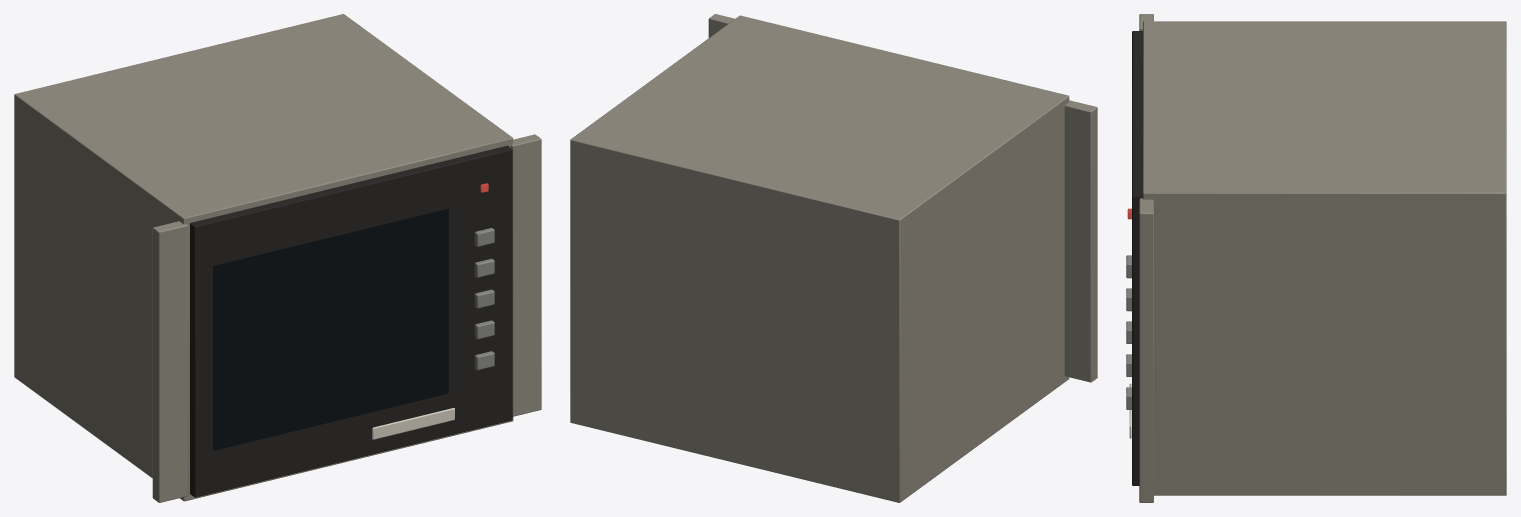
The model's file is SM_F_TV_Broadcast.gltf.
3 renders of one model, left to right at view 1: azimuth 30°, elevation 25°; view 2: azimuth 150°, elevation 25°; view 3: azimuth 270°, elevation 25°, orthographic. The views are drawn at different scales.
Parts seen in each view (by area): view 1: SM_F_TV_Broadcast_LookDev02__Body, SM_F_TV_Broadcast_LookDev02__Screen; view 2: SM_F_TV_Broadcast_LookDev02__Body; view 3: SM_F_TV_Broadcast_LookDev02__Body.
Part boxes in pixels (x1,y1,x2,y2): SM_F_TV_Broadcast_LookDev02__Body: (14,14,541,502); SM_F_TV_Broadcast_LookDev02__Screen: (213,208,448,450); SM_F_TV_Broadcast_LookDev02__Body: (570,14,1097,502); SM_F_TV_Broadcast_LookDev02__Body: (1126,14,1506,502).
Bounding box in the file's own units: 0.65 × 0.46 × 0.523.
Materials: 6 (5 with a texture image).
